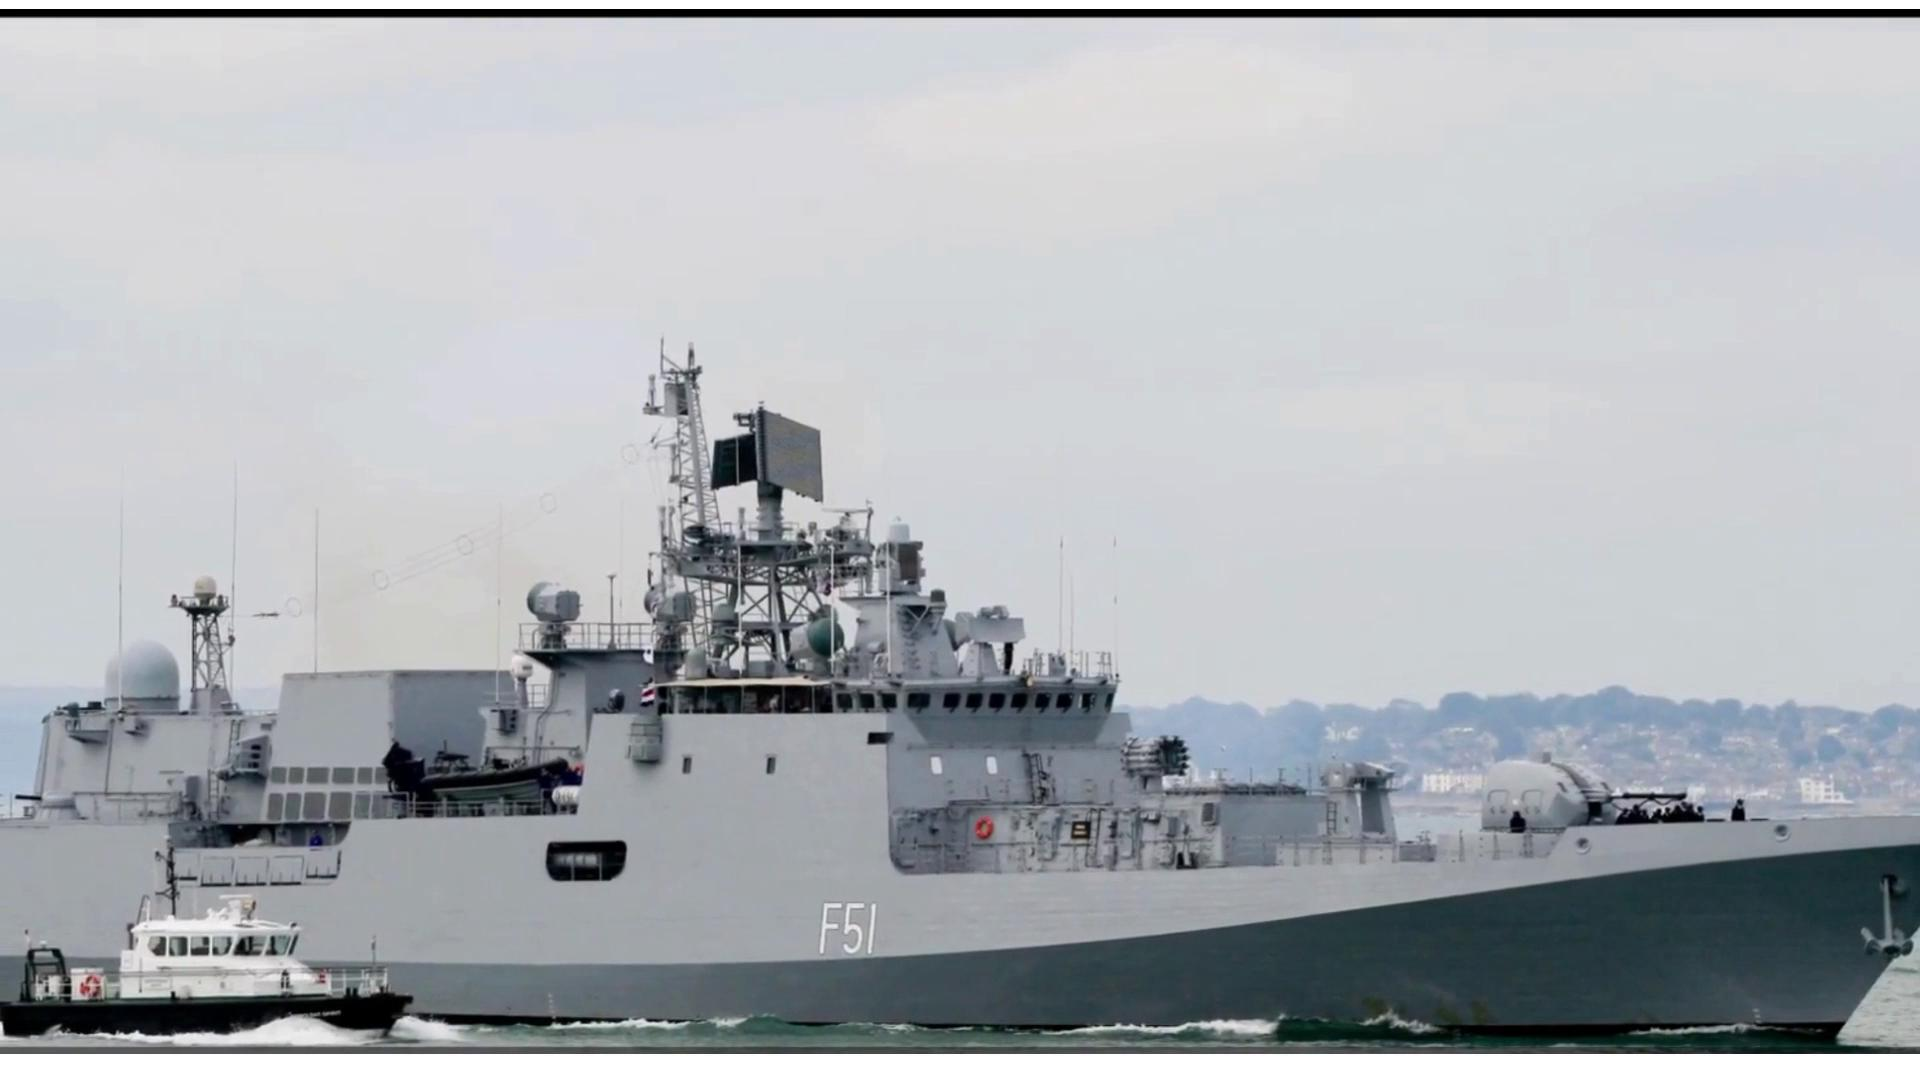OCR: (807, 885, 909, 973)
